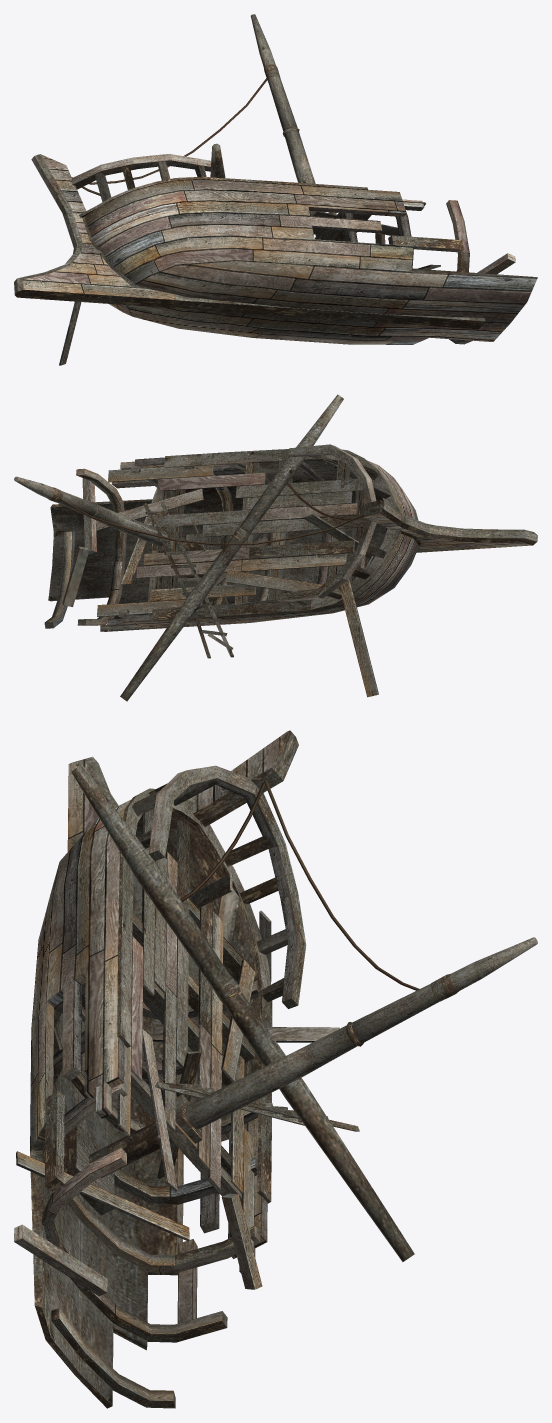
The model's file is treasure_shipwreck_ram_side.glb.
3 views of the same model, one above another, from view 1: azimuth 30°, elevation 25°; view 2: azimuth 150°, elevation 25°; view 3: azimuth 270°, elevation 25° (orthographic). The views are drawn at different scales.
Visible parts, largest first — view 1: treasure_shipwreck_ram_side_part0; view 2: treasure_shipwreck_ram_side_part0; view 3: treasure_shipwreck_ram_side_part0.
Boxes of the visible parts, x1=… form: treasure_shipwreck_ram_side_part0: x1=14, y1=14, x2=537, y2=365; treasure_shipwreck_ram_side_part0: x1=14, y1=394, x2=537, y2=701; treasure_shipwreck_ram_side_part0: x1=14, y1=730, x2=537, y2=1408.
Size of the model in its own units: 5.77 by 3.06 by 3.3.
Materials: 1 (1 with a texture image).
